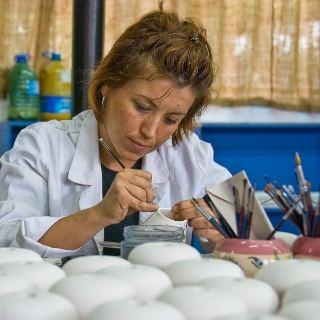without_mask: (104, 73, 196, 160)
